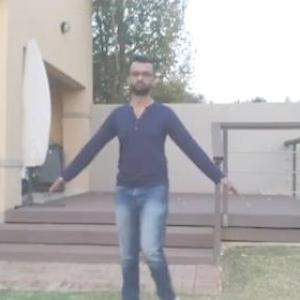land: (68, 64, 248, 299)
